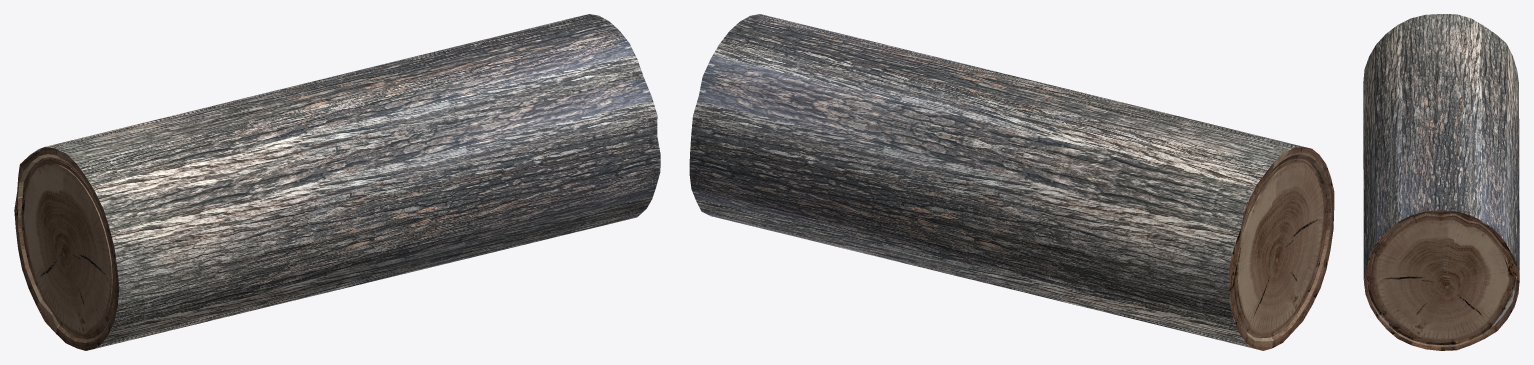
Rendered from log_1.5m.fbx.
3 renders of one model, left to right at view 1: azimuth 30°, elevation 25°; view 2: azimuth 150°, elevation 25°; view 3: azimuth 270°, elevation 25°, orthographic. The views are drawn at different scales.
Parts seen in each view (by area): view 1: Cylinder.001; view 2: Cylinder.001; view 3: Cylinder.001.
Part boxes in pixels (bbox=[...]): Cylinder.001: bbox=[14, 14, 660, 350]; Cylinder.001: bbox=[689, 14, 1334, 350]; Cylinder.001: bbox=[1363, 14, 1519, 350].
Bounding box in the file's own units: 1.5 × 0.5 × 0.5.
3 materials, 3 textured.
